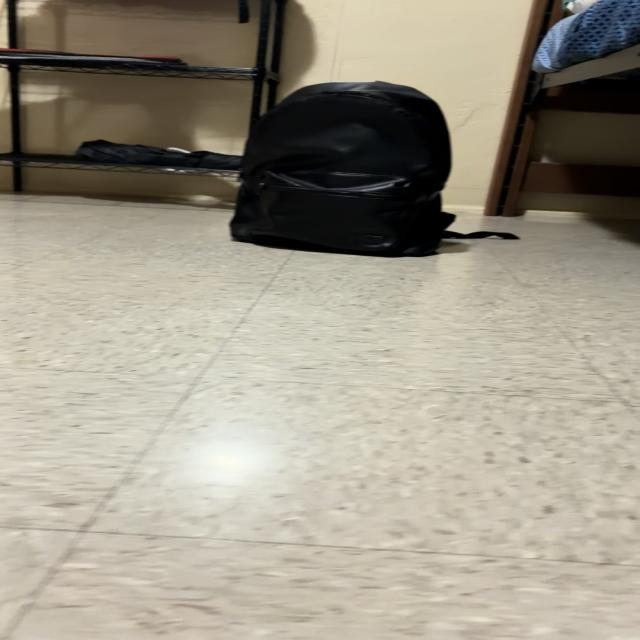backpack: (231, 82, 493, 255), (496, 234, 508, 236)
